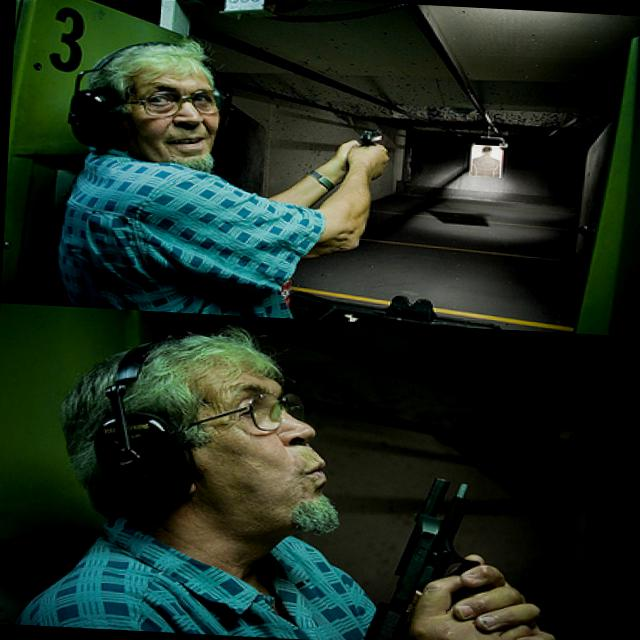handgun: (362, 470, 493, 639), (348, 126, 386, 144)
